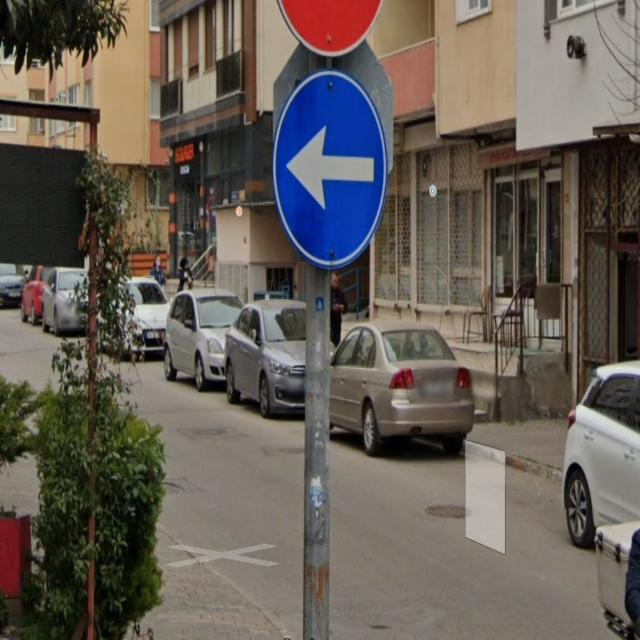Turn Left: (276, 79, 380, 280)
